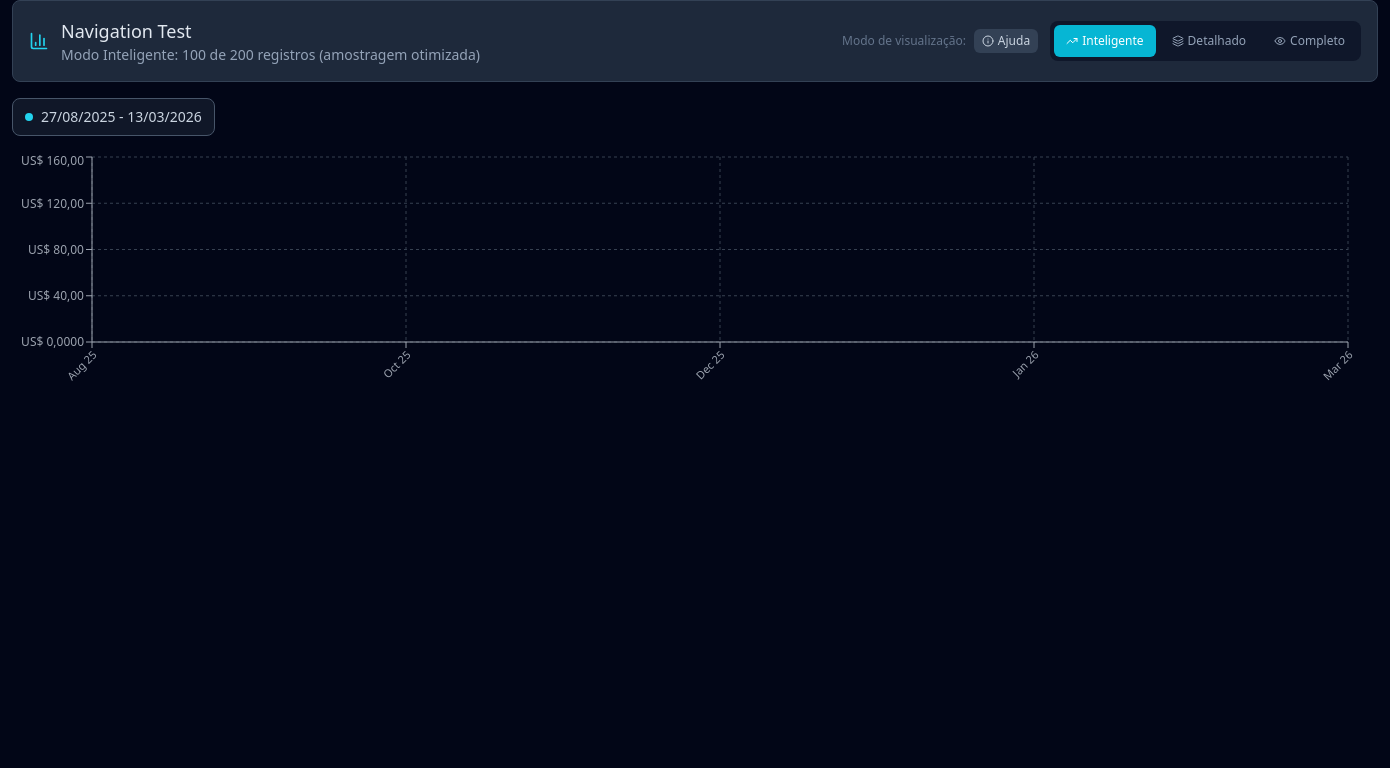
Test: VirtualizedChart › shows navigation controls in detailed mode
Click the button "Detalhado": (1209, 41) [1160, 25, 1258, 57]
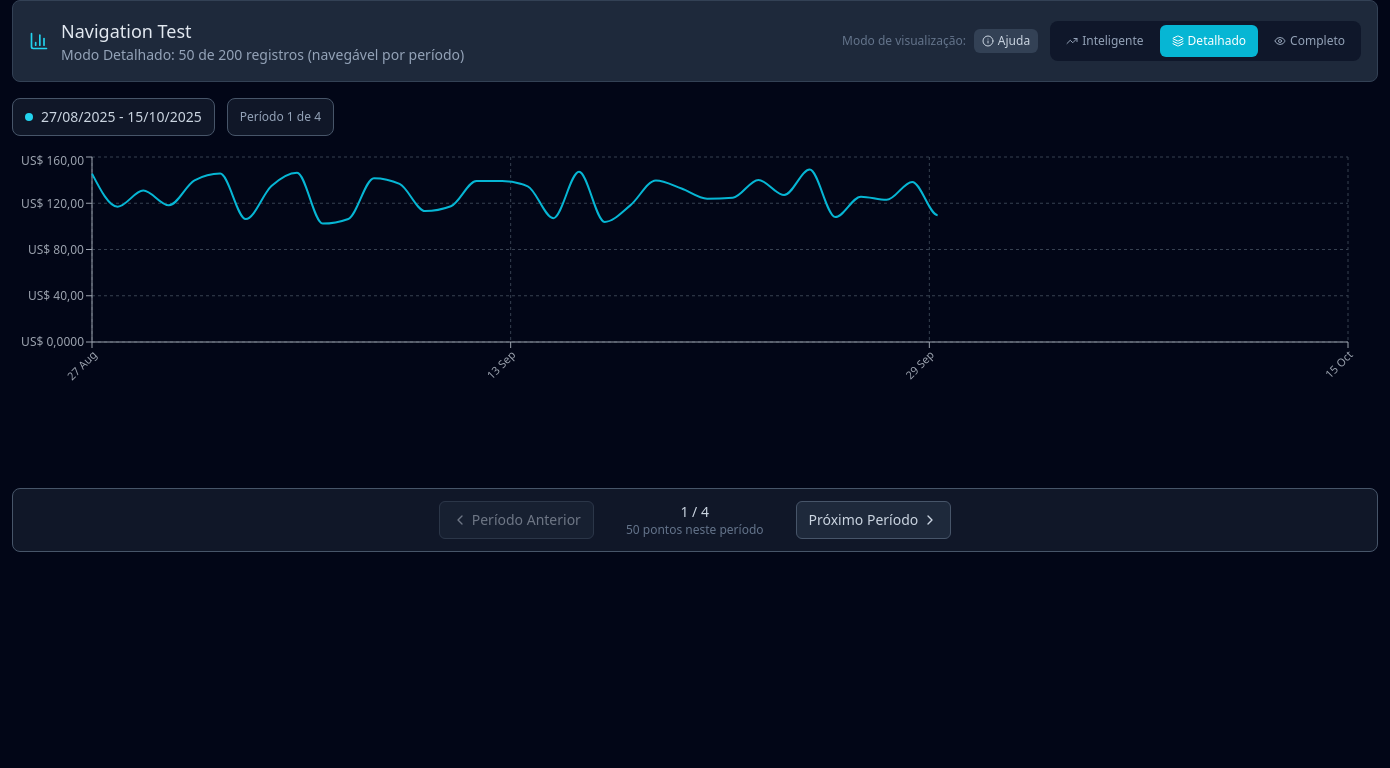
Result: the button "Período Anterior" is shown at [439, 501, 594, 539]
Result: the button "Próximo Período" is shown at [796, 501, 951, 539]
